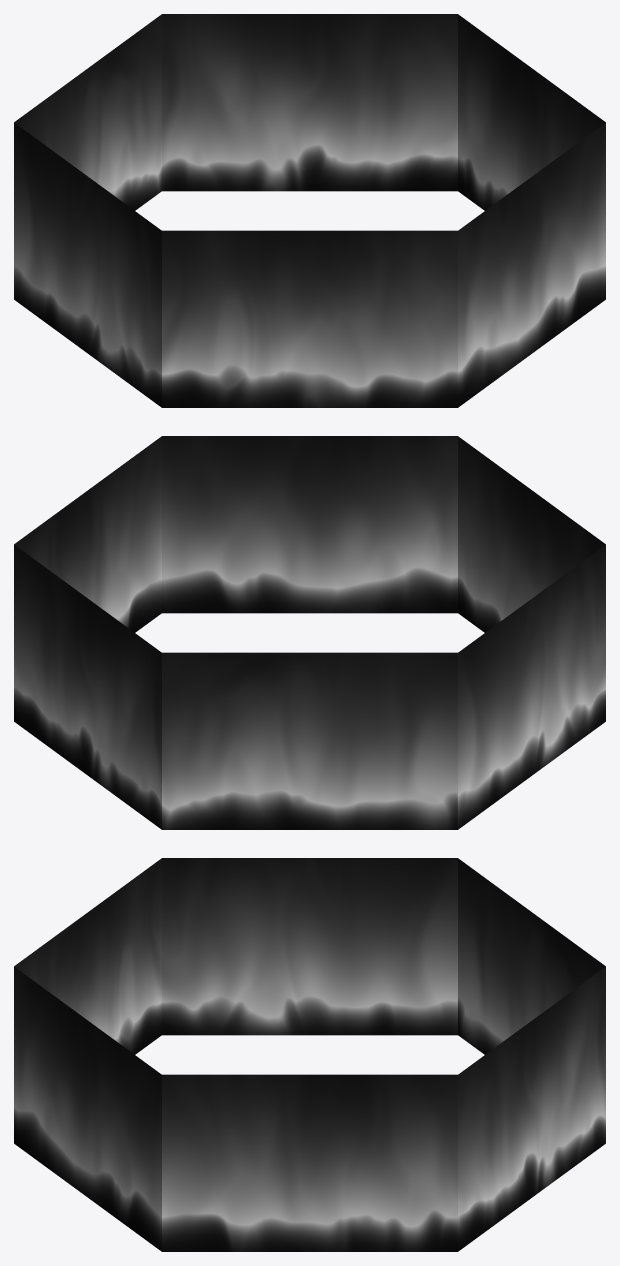
The model's file is Effect_Mesh_Cylinder4_20251110.fbx.
3 views of the same model, one above another, from view 1: azimuth 30°, elevation 25°; view 2: azimuth 150°, elevation 25°; view 3: azimuth 270°, elevation 25° (orthographic).
Visible parts, largest first — view 1: Mesh_Cylinder4; view 2: Mesh_Cylinder4; view 3: Mesh_Cylinder4.
Part boxes in pixels (x1,y1,x2,y2): Mesh_Cylinder4: (14, 14, 605, 407); Mesh_Cylinder4: (14, 436, 605, 829); Mesh_Cylinder4: (14, 858, 605, 1251).
Bounding box in the file's own units: 1243 × 474 × 1435.
